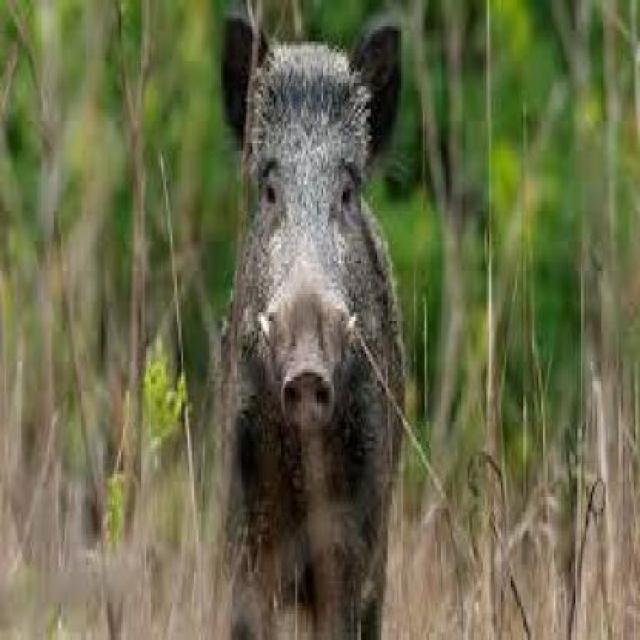wildboar: (212, 9, 405, 640)
